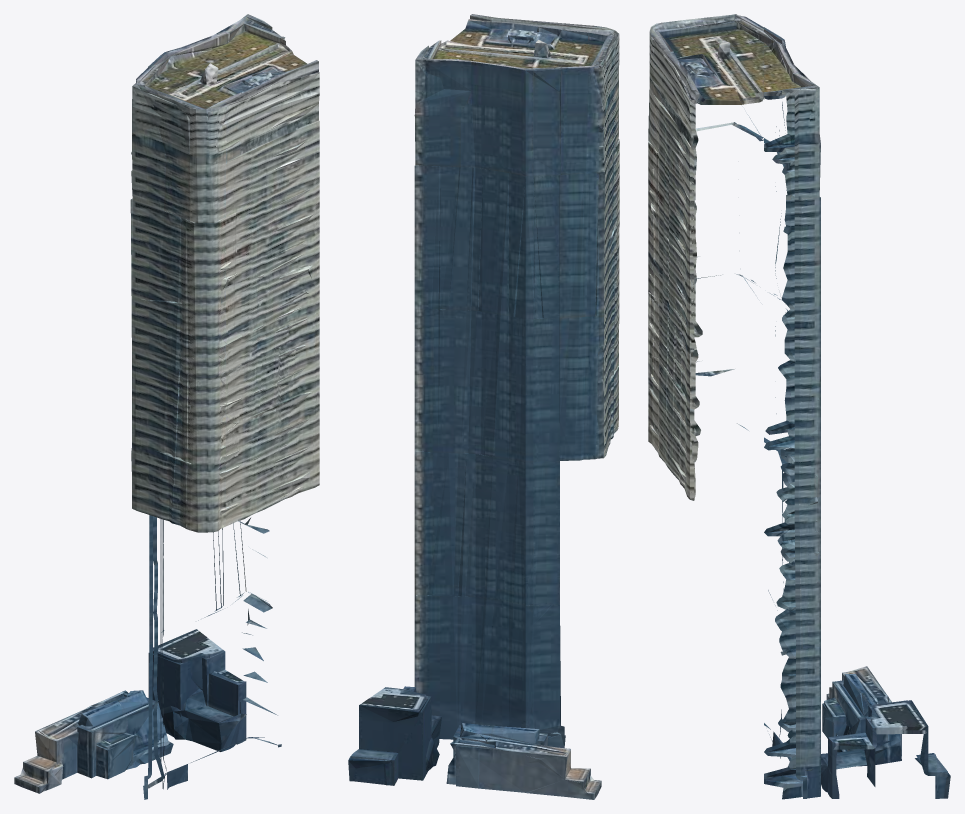
Rendered from chunk_1_6.glb.
3 renders of one model, left to right at view 1: azimuth 30°, elevation 25°; view 2: azimuth 150°, elevation 25°; view 3: azimuth 270°, elevation 25°, orthographic. The views are drawn at different scales.
Parts seen in each view (by area): view 1: hero-chunk; view 2: hero-chunk; view 3: hero-chunk.
Part boxes in pixels (box(x1,y1,x2,y2)): hero-chunk: box(14, 14, 319, 799); hero-chunk: box(348, 14, 619, 799); hero-chunk: box(648, 14, 950, 799).
Size of the model in its own units: 54.81 by 174 by 66.76.
Materials: 7 (7 with a texture image).
